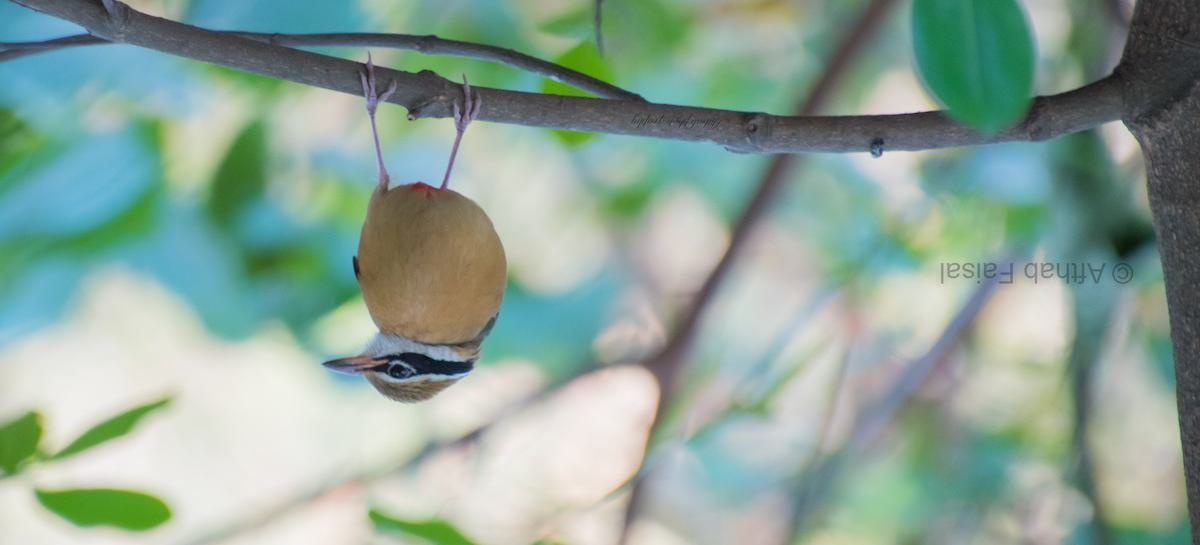pitta: (281, 70, 520, 415)
